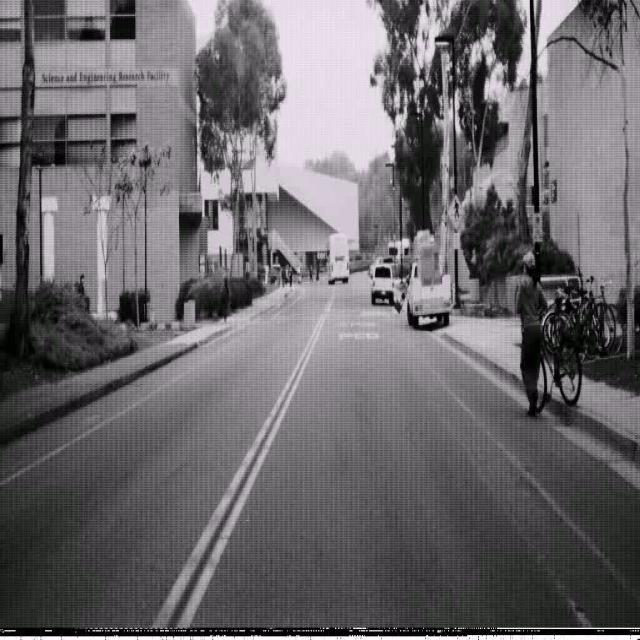pedestrianCrossing: (446, 193, 465, 230)
